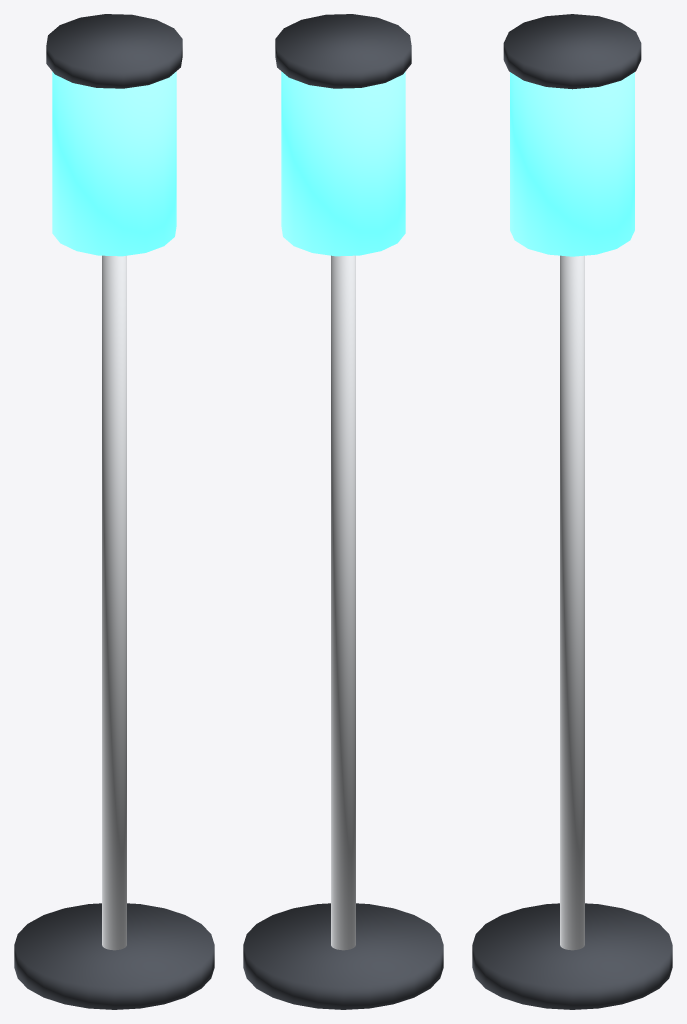
The model's file is floor_lamp_stem.glb.
The picture shows the model from 3 angles, left to right: view 1: azimuth 30°, elevation 25°; view 2: azimuth 150°, elevation 25°; view 3: azimuth 270°, elevation 25°; orthographic projection.
Visible parts, largest first — view 1: GD_floor_lamp_stem__m0, GD_floor_lamp_stem__m2, GD_floor_lamp_stem__m1; view 2: GD_floor_lamp_stem__m0, GD_floor_lamp_stem__m2, GD_floor_lamp_stem__m1; view 3: GD_floor_lamp_stem__m0, GD_floor_lamp_stem__m2, GD_floor_lamp_stem__m1.
Part boxes in pixels (x1=…): GD_floor_lamp_stem__m0: x1=14, y1=14, x2=214, y2=1009; GD_floor_lamp_stem__m2: x1=52, y1=71, x2=176, y2=256; GD_floor_lamp_stem__m1: x1=102, y1=255, x2=126, y2=950; GD_floor_lamp_stem__m0: x1=243, y1=14, x2=443, y2=1009; GD_floor_lamp_stem__m2: x1=281, y1=71, x2=405, y2=256; GD_floor_lamp_stem__m1: x1=331, y1=255, x2=355, y2=950; GD_floor_lamp_stem__m0: x1=472, y1=14, x2=672, y2=1009; GD_floor_lamp_stem__m2: x1=510, y1=72, x2=634, y2=256; GD_floor_lamp_stem__m1: x1=560, y1=255, x2=584, y2=950.
Bounding box in the file's own units: 0.32 × 1.63 × 0.32.
